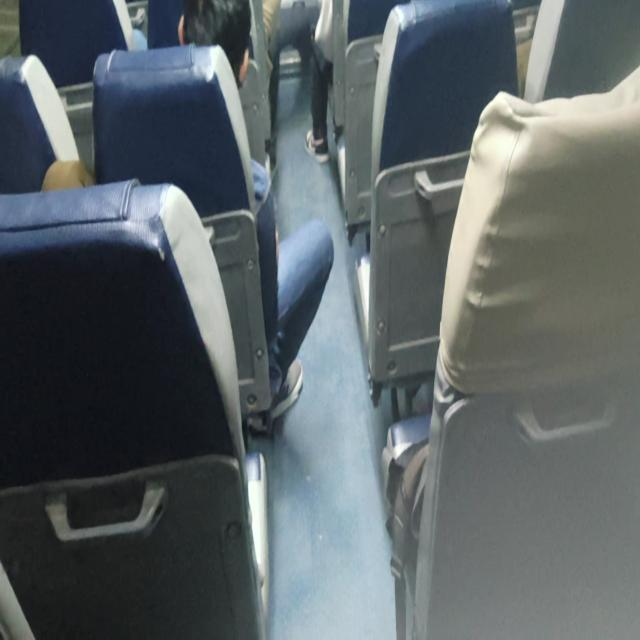person: (171, 0, 261, 102)
